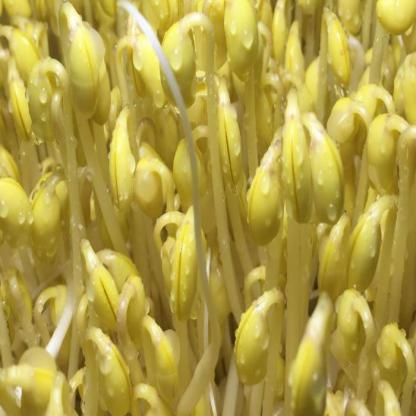bean sprouts: (4, 0, 416, 415)
